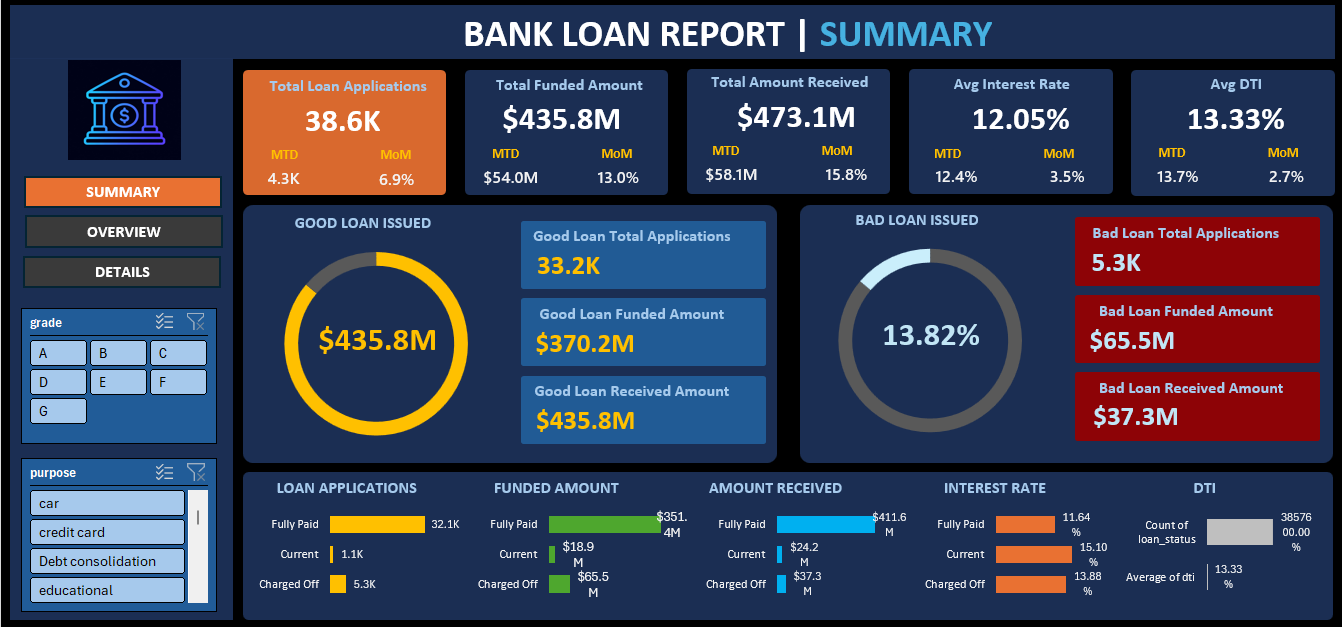

What the dashboard file says about the page in this screenshot:
{"tool":"powerbi","page":{"name":"Summary","canvas":[1280,720],"ordinal":0},"visuals":[{"type":"shape","box":[0,54.8,192,665.1],"z":0},{"type":"shape","box":[203.4,63.8,194.8,116.9],"z":0,"group":"g1"},{"type":"shape","box":[423.8,63.2,194.2,117],"z":1000,"group":"g2"},{"type":"shape","box":[639.2,63.6,194.8,116.9],"z":1000,"group":"g3"},{"type":"shape","box":[855.6,63.6,194.8,116.9],"z":1000,"group":"g4"},{"type":"shape","box":[1072,63.8,194.8,116.9],"z":1000,"group":"g5"},{"type":"card","fields":{"Values":["Bank_Loan_data.Total Loan Applications"]},"box":[203.4,82.6,194.8,53.4],"z":1000,"group":"g1"},{"type":"shape","box":[203.9,193,522.4,242.5],"z":1000},{"type":"textbox","box":[203.4,63.8,194.8,33.2],"z":2000,"group":"g1"},{"type":"shape","box":[203.9,444,1062.9,265.4],"z":2000},{"type":"card","fields":{"Values":["Bank_Loan_data.Total Funded Amount"]},"box":[419.2,77.6,194.8,53.4],"z":3000,"group":"g2"},{"type":"card","fields":{"Values":["Bank_Loan_data.Total Amount Received"]},"box":[639.2,82.4,194.8,53.4],"z":3000,"group":"g3"},{"type":"card","fields":{"Values":["Bank_Loan_data.Avg Interest Rate"]},"box":[855.6,82.4,194.8,53.4],"z":3000,"group":"g4"},{"type":"card","fields":{"Values":["Bank_Loan_data.Avg DTI"]},"box":[1072,82.6,194.8,53.4],"z":3000,"group":"g5"},{"type":"card","title":"MTD","fields":{"Values":["Date Table.MTD Loan Applications"]},"box":[203.4,131.6,83.7,49.1],"z":3000,"group":"g1"},{"type":"donutChart","title":"GOOD LOAN ISSUED","fields":{"Category":["Bank_Loan_data.Good vs Bad Loan"],"Y":["Bank_Loan_data.Total Loan Applications"]},"box":[207.5,218.4,258.2,229.2],"z":3000},{"type":"shape","box":[0,0,1280,55],"z":4000},{"type":"card","title":"MOM","fields":{"Values":["Date Table.MOM Loan Applications"]},"box":[301.5,131.6,83.7,49.1],"z":4000,"group":"g1"},{"type":"textbox","box":[419.2,58.8,194.8,33.2],"z":5000,"group":"g2"},{"type":"textbox","box":[639.2,63.6,194.8,33.2],"z":5000,"group":"g3"},{"type":"textbox","box":[855.6,63.6,194.8,33.2],"z":5000,"group":"g4"},{"type":"textbox","box":[1072,63.8,194.8,33.2],"z":5000,"group":"g5"},{"type":"textbox","box":[246.1,197.9,196.6,33.8],"z":5000},{"type":"card","title":"MTD","fields":{"Values":["Date Table.MTD Funded Amount"]},"box":[419.2,126.6,83.7,49.1],"z":6000,"group":"g2"},{"type":"card","title":"MTD","fields":{"Values":["Date Table.MTD Total Amount Received"]},"box":[639.2,131.4,83.7,49.1],"z":6000,"group":"g3"},{"type":"card","title":"MTD","fields":{"Values":["Date Table.MTD Avg Interest Rate"]},"box":[855.6,131.4,83.7,49.1],"z":6000,"group":"g4"},{"type":"card","title":"MTD","fields":{"Values":["Date Table.MTD Avg DTI"]},"box":[1072,131.6,83.7,49.1],"z":6000,"group":"g5"},{"type":"textbox","box":[20.2,453,76.5,30.3],"z":6000},{"type":"textbox","box":[411.2,4.3,458.8,50.5],"z":7000},{"type":"card","title":"MOM","fields":{"Values":["Date Table.MOM Funded Amount"]},"box":[517.3,126.6,83.7,49.1],"z":7000,"group":"g2"},{"type":"card","title":"MOM","fields":{"Values":["Date Table.MOM Total Amount Received"]},"box":[737.3,131.4,83.7,49.1],"z":7000,"group":"g3"},{"type":"card","title":"MOM","fields":{"Values":["Date Table.MOM Avg Interest Rate"]},"box":[953.7,131.4,83.7,49.1],"z":7000,"group":"g4"},{"type":"card","title":"MOM","fields":{"Values":["Date Table.MOM Avg DTI"]},"box":[1170.1,131.6,83.7,49.1],"z":7000,"group":"g5"},{"type":"group","id":"g1","title":"Group 1","box":[203.4,63.8,194.8,116.9],"z":8000},{"type":"card","fields":{"Values":["Bank_Loan_data.Good Loan %"]},"box":[267.8,296.8,138.7,54.3],"z":9000},{"type":"group","id":"g2","title":"Group 2","box":[419.2,58.8,199.1,121.9],"z":10000},{"type":"group","id":"g3","title":"Group 2","box":[639.2,63.6,195.4,117],"z":11000},{"type":"group","id":"g4","title":"Group 2","box":[855.6,63.6,195.4,117],"z":12000},{"type":"group","id":"g5","title":"Group 2","box":[1072,63.8,194.8,116.9],"z":13000},{"type":"shape","box":[744.4,193,522.4,242.5],"z":14000},{"type":"cardVisual","fields":{"Data":["Bank_Loan_data.Good Loan Applications","Bank_Loan_data.Good Loan Funded Amount","Bank_Loan_data.Good Loan Total Amount Received"]},"box":[441.5,193.3,284.2,259.7],"z":15000},{"type":"textbox","box":[783,193,195.4,33.8],"z":16000},{"type":"donutChart","title":"GOOD LOAN ISSUED","fields":{"Category":["Bank_Loan_data.Good vs Bad Loan"],"Y":["Bank_Loan_data.Total Loan Applications"]},"box":[754,214.7,252.1,229.2],"z":17000},{"type":"card","fields":{"Values":["Bank_Loan_data.Bad Loan %"]},"box":[811.9,295.6,138.7,54.3],"z":18000},{"type":"cardVisual","fields":{"Data":["Bank_Loan_data.Bad Loan Applications","Bank_Loan_data.Bad Loan Funded Amount","Bank_Loan_data.Bad Loan ToTal Received"]},"box":[982.5,193.3,284.2,259.7],"z":19000},{"type":"tableEx","title":"LOAN STATUS","fields":{"Values":["Bank_Loan_data.loan_status","Bank_Loan_data.Total Loan Applications","Bank_Loan_data.Total Funded Amount","Bank_Loan_data.Total Amount Received","Date Table.MTD Funded Amount","Date Table.MTD Total Amount Received","Bank_Loan_data.Avg Interest Rate","Bank_Loan_data.Avg DTI"]},"box":[207.8,487.7,1059,222.2],"z":20000},{"type":"textbox","box":[229.4,453,125.5,33.2],"z":21000},{"type":"slicer","fields":{"Values":["Bank_Loan_data.purpose"]},"box":[10.1,486.2,181.8,43.3],"z":22000},{"type":"textbox","box":[20.2,535.3,76.5,30.3],"z":23000},{"type":"slicer","fields":{"Values":["Bank_Loan_data.grade"]},"box":[10.1,565.6,181.8,43.3],"z":24000},{"type":"textbox","box":[20.2,620.4,76.5,30.3],"z":25000},{"type":"slicer","fields":{"Values":["Bank_Loan_data.address_state"]},"box":[10.1,650.7,181.8,43.3],"z":26000},{"type":"pageNavigator","box":[10.1,197.7,181.8,163],"z":27000},{"type":"textbox","box":[10.1,167.4,76.5,30.3],"z":28000},{"type":"image","box":[49.1,49.1,118.3,118.3],"z":28001}]}

Visuals, with their boxes on the page's 1280x720 design canvas (x1, y1, x2, y2). These are canvas units, not pixel positions in the 1342x627 screenshot, which may show the page scaled, cropped or inside an application window:
shape: [left=0, top=55, right=192, bottom=720]
shape: [left=203, top=64, right=398, bottom=181]
shape: [left=424, top=63, right=618, bottom=180]
shape: [left=639, top=64, right=834, bottom=180]
shape: [left=856, top=64, right=1050, bottom=180]
shape: [left=1072, top=64, right=1267, bottom=181]
card - Bank_Loan_data.Total Loan Applications: [left=203, top=83, right=398, bottom=136]
shape: [left=204, top=193, right=726, bottom=436]
textbox: [left=203, top=64, right=398, bottom=97]
shape: [left=204, top=444, right=1267, bottom=709]
card - Bank_Loan_data.Total Funded Amount: [left=419, top=78, right=614, bottom=131]
card - Bank_Loan_data.Total Amount Received: [left=639, top=82, right=834, bottom=136]
card - Bank_Loan_data.Avg Interest Rate: [left=856, top=82, right=1050, bottom=136]
card - Bank_Loan_data.Avg DTI: [left=1072, top=83, right=1267, bottom=136]
"MTD" card: [left=203, top=132, right=287, bottom=181]
"GOOD LOAN ISSUED" donutChart: [left=208, top=218, right=466, bottom=448]
shape: [left=0, top=0, right=1280, bottom=55]
"MOM" card: [left=302, top=132, right=385, bottom=181]
textbox: [left=419, top=59, right=614, bottom=92]
textbox: [left=639, top=64, right=834, bottom=97]
textbox: [left=856, top=64, right=1050, bottom=97]
textbox: [left=1072, top=64, right=1267, bottom=97]
textbox: [left=246, top=198, right=443, bottom=232]
"MTD" card: [left=419, top=127, right=503, bottom=176]
"MTD" card: [left=639, top=131, right=723, bottom=180]
"MTD" card: [left=856, top=131, right=939, bottom=180]
"MTD" card: [left=1072, top=132, right=1156, bottom=181]
textbox: [left=20, top=453, right=97, bottom=483]
textbox: [left=411, top=4, right=870, bottom=55]
"MOM" card: [left=517, top=127, right=601, bottom=176]
"MOM" card: [left=737, top=131, right=821, bottom=180]
"MOM" card: [left=954, top=131, right=1037, bottom=180]
"MOM" card: [left=1170, top=132, right=1254, bottom=181]
"Group 1" group: [left=203, top=64, right=398, bottom=181]
card - Bank_Loan_data.Good Loan %: [left=268, top=297, right=406, bottom=351]
"Group 2" group: [left=419, top=59, right=618, bottom=181]
"Group 2" group: [left=639, top=64, right=835, bottom=181]
"Group 2" group: [left=856, top=64, right=1051, bottom=181]
"Group 2" group: [left=1072, top=64, right=1267, bottom=181]
shape: [left=744, top=193, right=1267, bottom=436]
cardVisual - Bank_Loan_data.Good Loan Applications x Bank_Loan_data.Good Loan Funded Amount: [left=442, top=193, right=726, bottom=453]
textbox: [left=783, top=193, right=978, bottom=227]
"GOOD LOAN ISSUED" donutChart: [left=754, top=215, right=1006, bottom=444]
card - Bank_Loan_data.Bad Loan %: [left=812, top=296, right=951, bottom=350]
cardVisual - Bank_Loan_data.Bad Loan Applications x Bank_Loan_data.Bad Loan Funded Amount: [left=982, top=193, right=1267, bottom=453]
"LOAN STATUS" tableEx: [left=208, top=488, right=1267, bottom=710]
textbox: [left=229, top=453, right=355, bottom=486]
slicer - Bank_Loan_data.purpose: [left=10, top=486, right=192, bottom=530]
textbox: [left=20, top=535, right=97, bottom=566]
slicer - Bank_Loan_data.grade: [left=10, top=566, right=192, bottom=609]
textbox: [left=20, top=620, right=97, bottom=651]
slicer - Bank_Loan_data.address_state: [left=10, top=651, right=192, bottom=694]
pageNavigator: [left=10, top=198, right=192, bottom=361]
textbox: [left=10, top=167, right=87, bottom=198]
image: [left=49, top=49, right=167, bottom=167]
